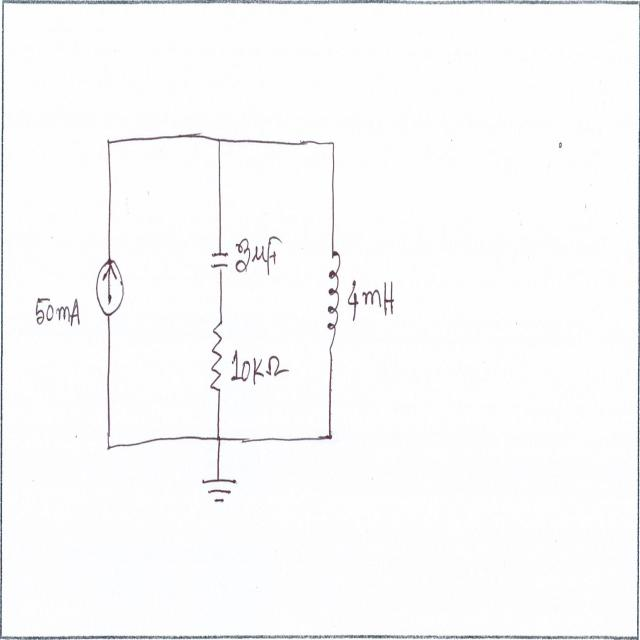capacitor: (209, 239, 229, 274)
current_source: (92, 259, 130, 326)
ground: (199, 474, 238, 508)
inductor: (326, 252, 341, 350)
resistor: (208, 318, 226, 396)
